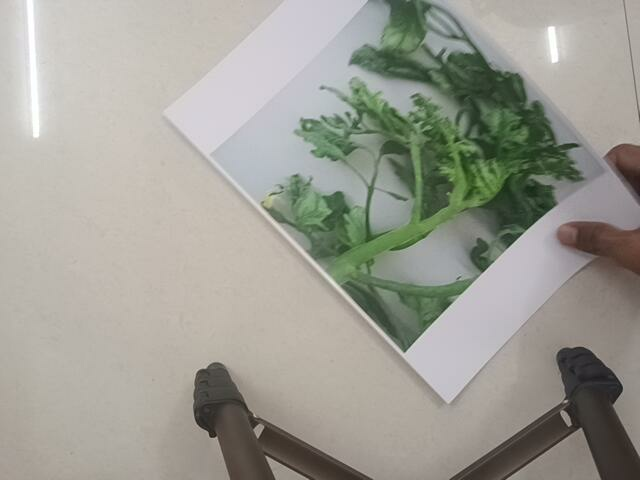Tomamto_Mosaic_virus: (305, 45, 537, 248)
